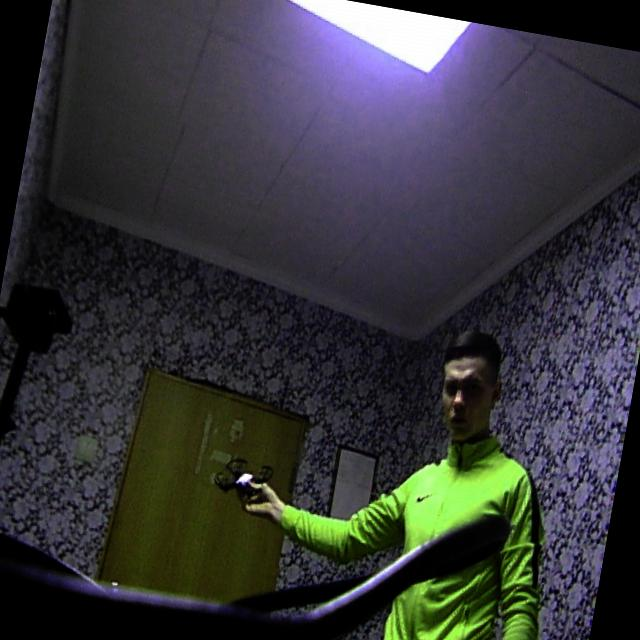drone: (205, 443, 279, 511)
